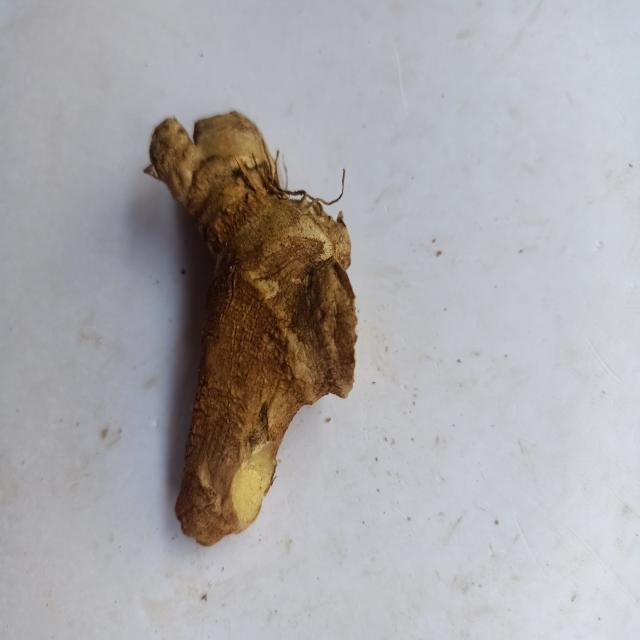Ginger: (149, 111, 357, 546)
